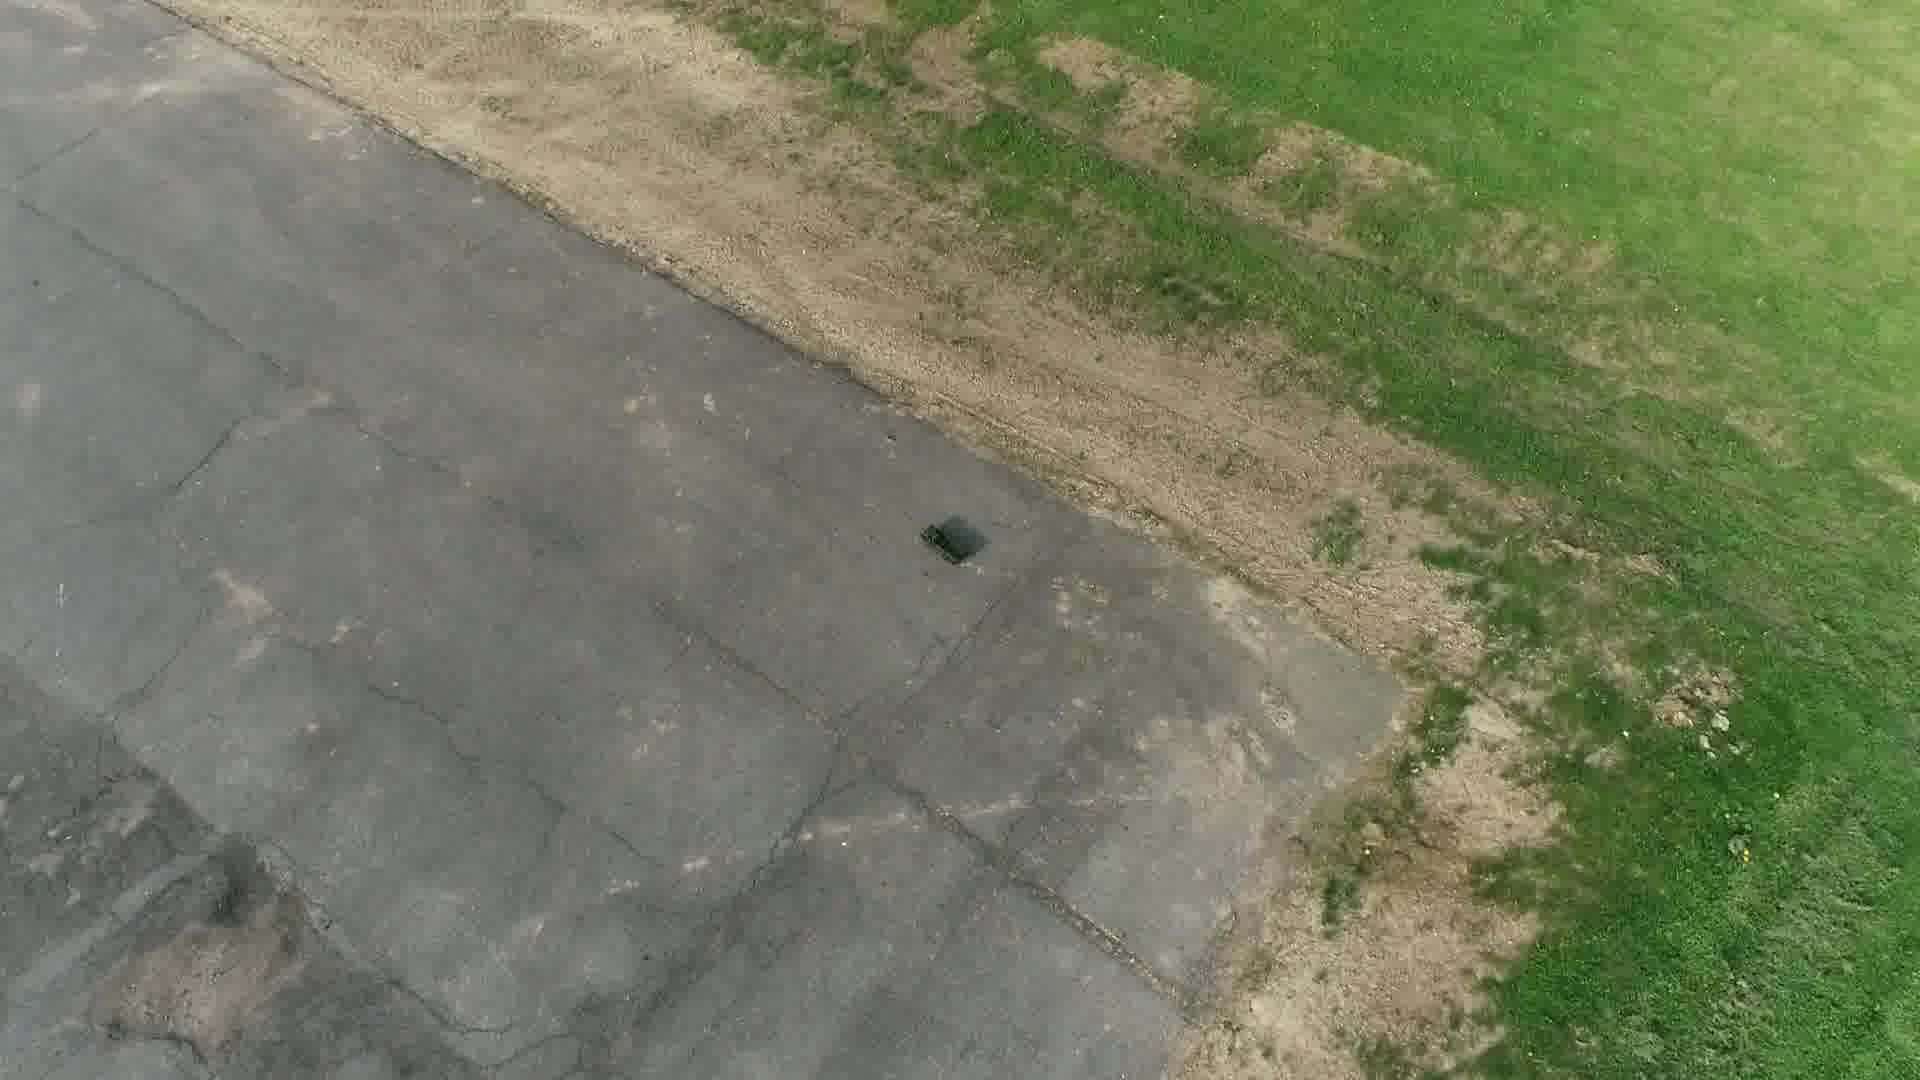transporter9: (919, 524, 972, 572)
